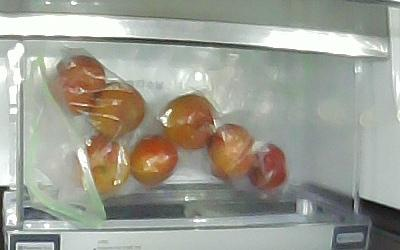prune_vinyl: (86, 82, 145, 139), (49, 56, 105, 115), (76, 135, 130, 194), (161, 95, 214, 150), (208, 124, 253, 180), (131, 136, 178, 186), (249, 142, 288, 191)
